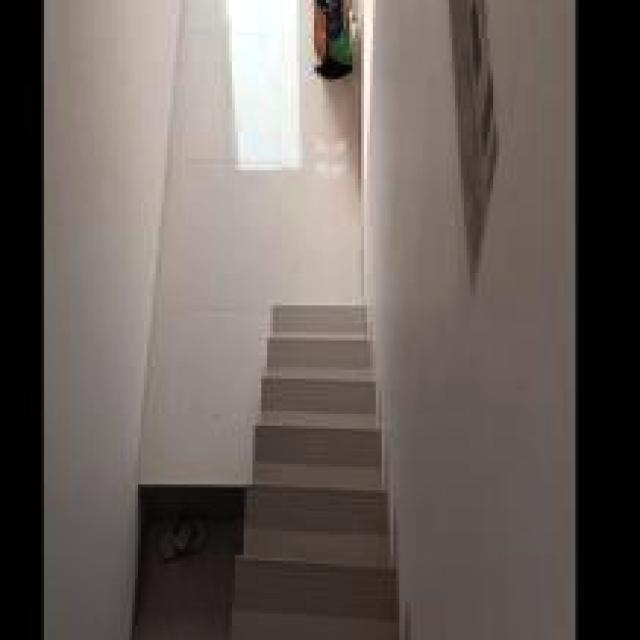downstair: (239, 271, 403, 640)
